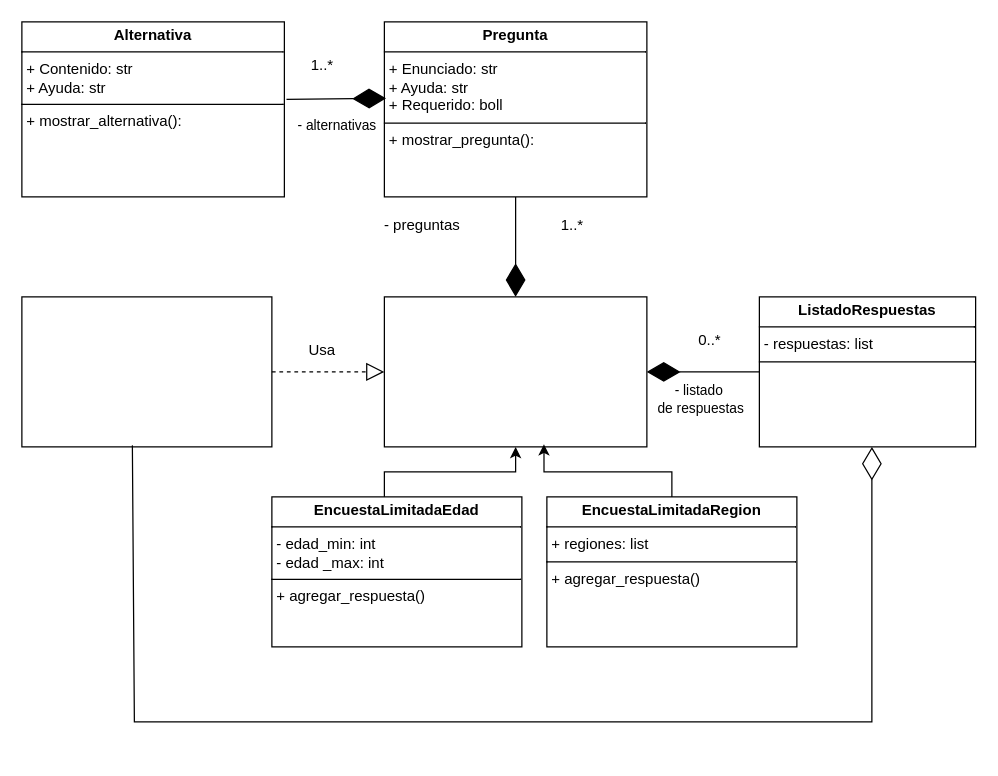
Some shapes in this 998 by 776 pixel diagram are drawn without their labels. Here are the shapes that lost their labels. From the top down, the centre of each, then its label:
At (146,371): "Usuario - correo: str - edad: int - region: int + contestar_encuesta ()".
At (515,371): "Encuesta + nombre: Type + mostrar_encuesta(): + agregar_listado_respuesta()".
